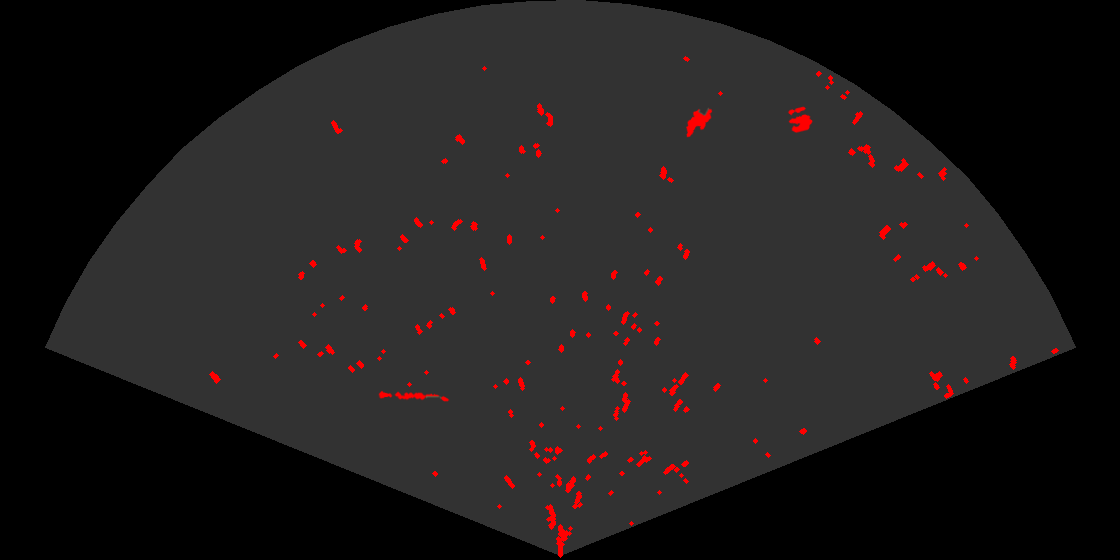AUV: (685, 106, 714, 139)
ball: (786, 105, 814, 134)
chain: (378, 389, 450, 403)
